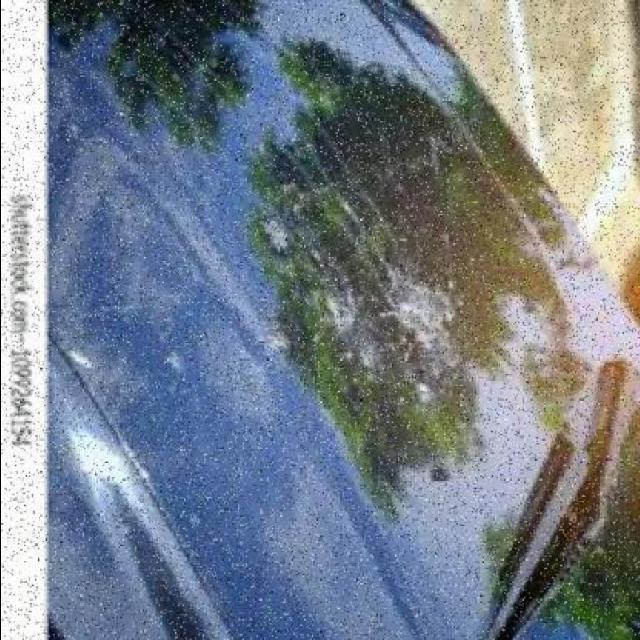bonnet-dent: (33, 0, 572, 609)
